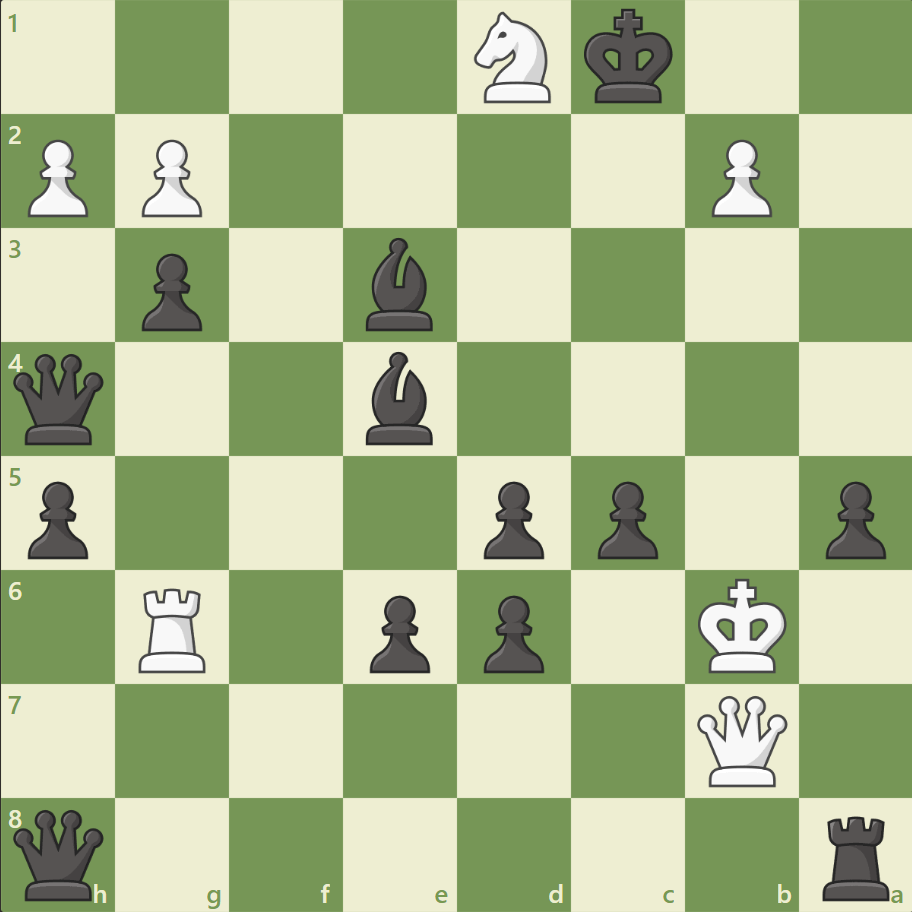K: (692, 571, 792, 679)
N: (465, 7, 562, 110)
P: (701, 132, 776, 223), (133, 132, 208, 223), (20, 132, 95, 223)
Q: (691, 690, 790, 789)
R: (133, 579, 215, 676)
b: (358, 233, 442, 336), (358, 347, 442, 449)
k: (579, 4, 679, 112)
p: (474, 586, 549, 677), (474, 473, 549, 564), (20, 473, 95, 564), (133, 246, 208, 337), (361, 586, 435, 677), (815, 473, 889, 564), (588, 473, 662, 564)
q: (10, 349, 109, 449), (10, 804, 109, 903)
r: (814, 806, 897, 904)
